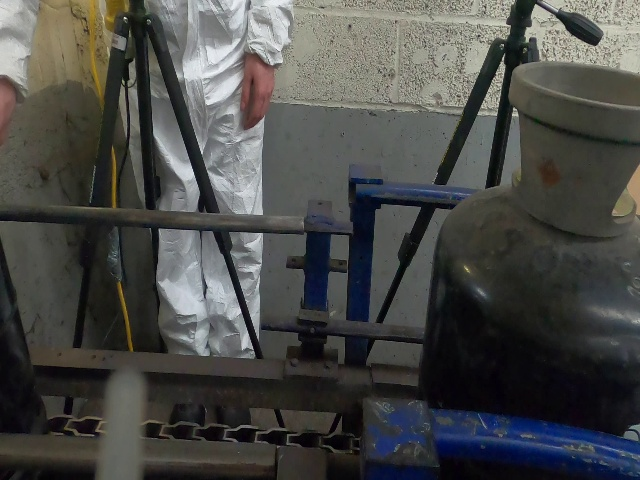gas_bottle: (0, 5, 635, 473)
